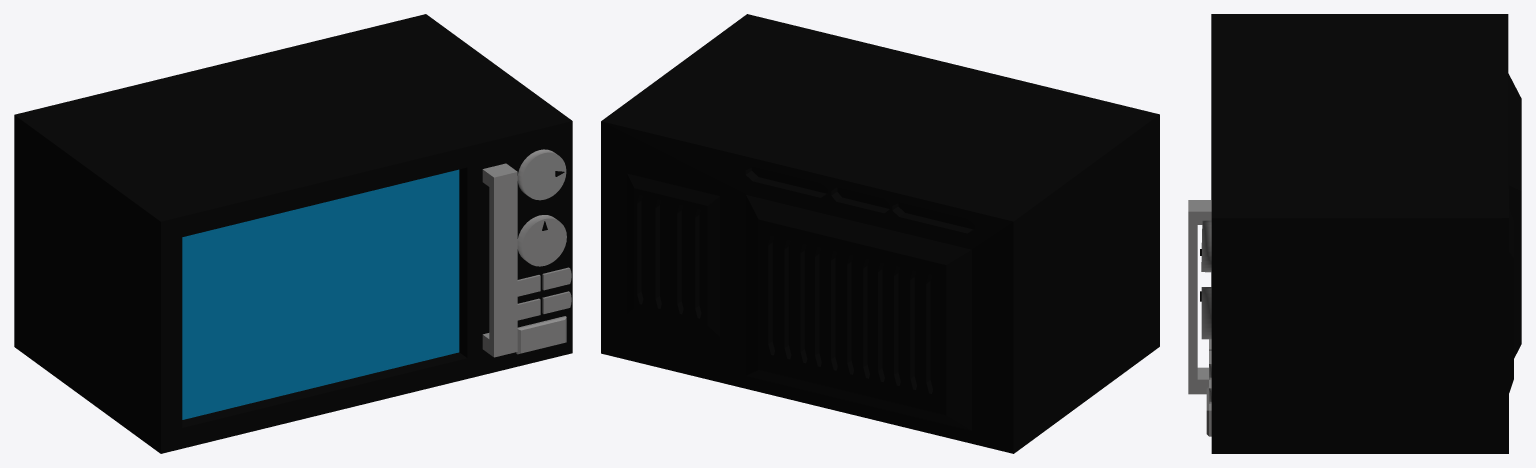
File: _icrowave.fbx
The picture shows the model from 3 angles, left to right: view 1: azimuth 30°, elevation 25°; view 2: azimuth 150°, elevation 25°; view 3: azimuth 270°, elevation 25°; orthographic projection.
Parts seen in each view (by area): view 1: Cube.004; view 2: Cube.004; view 3: Cube.004.
Part boxes in pixels (x1,y1,x2,y2): Cube.004: (14, 14, 572, 453); Cube.004: (601, 14, 1159, 453); Cube.004: (1188, 14, 1521, 453).
Size of the model in its own units: 63.39 by 34.1 by 43.75.
